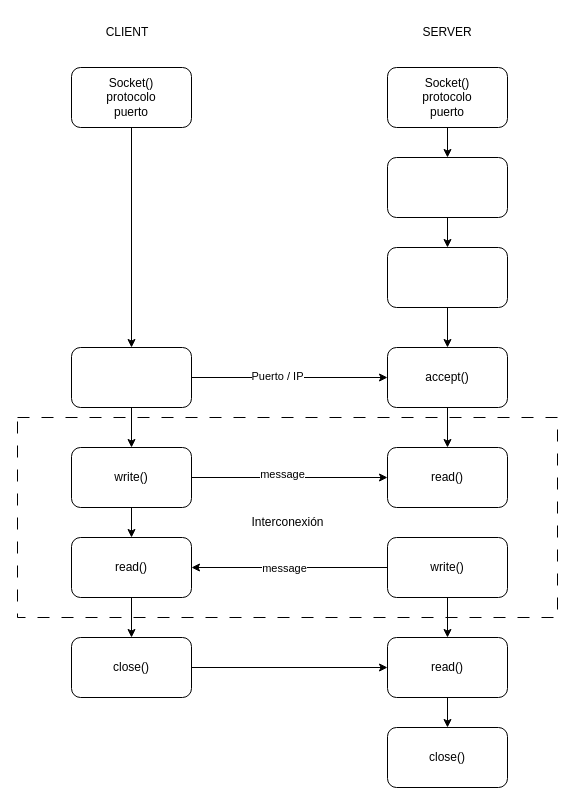
Image size: 575x805. Some labels were removed from this diagram. The shapes that lost their labels are listed below. From the top down, each one's centre as x and y in pixels, then its label:
(x=447, y=187): bind() define puerto e IP
(x=447, y=277): listen() publica y lo mantiene en escucha
(x=131, y=377): connect()
